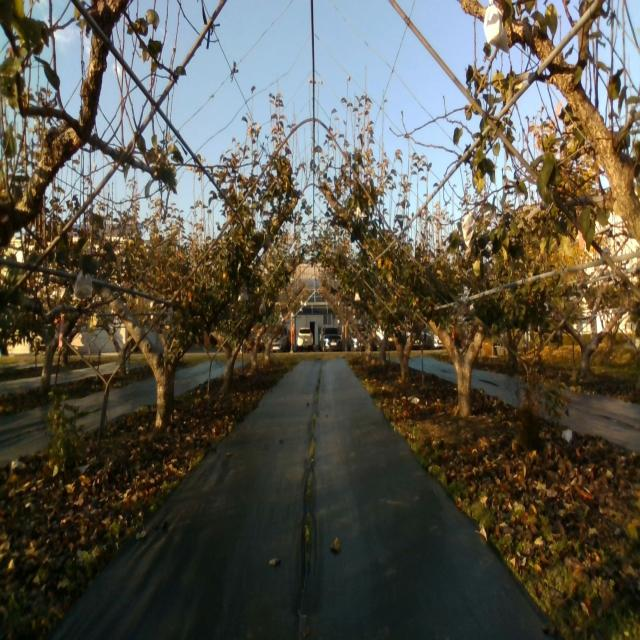pearbags: (484, 0, 510, 55), (74, 270, 94, 300), (462, 214, 475, 248)
